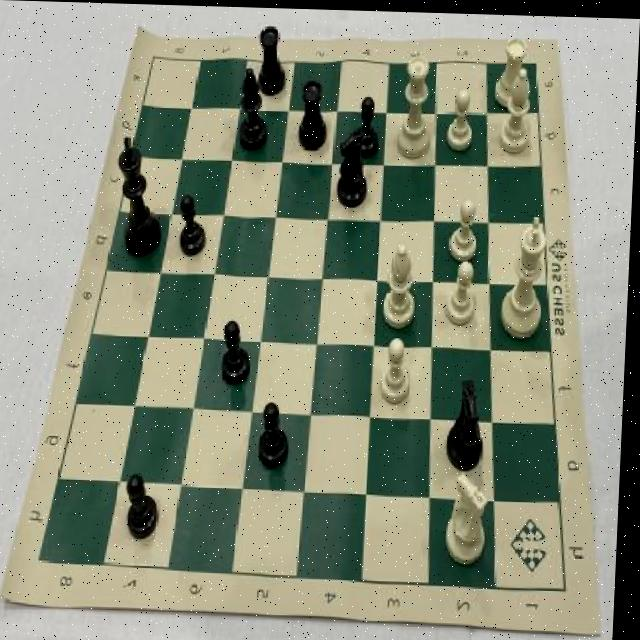bishop: (232, 63, 272, 154)
black-bishop: (112, 127, 169, 263)
black-king: (440, 372, 495, 469), (329, 125, 375, 214)
black-knight: (256, 390, 299, 472), (126, 468, 168, 546), (219, 310, 257, 389), (177, 188, 211, 260), (352, 88, 385, 156)
black-queen: (294, 72, 334, 154), (255, 15, 292, 99)
black-rook: (493, 64, 543, 156), (380, 232, 426, 329)
white-bishop: (497, 207, 553, 340)
white-king: (445, 463, 498, 570)
white-knight: (378, 332, 421, 415), (442, 254, 487, 329), (443, 78, 479, 152), (447, 194, 486, 261)
white-pawn: (391, 46, 440, 163)
white-queen: (489, 31, 533, 118)
